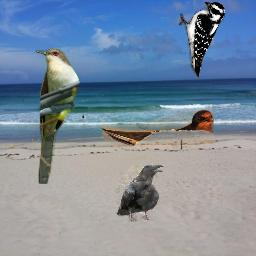Crow: (116, 164, 164, 222)
Cuckoo: (35, 48, 81, 184)
Swallow: (102, 109, 214, 149)
Woodpecker: (179, 2, 225, 79)
